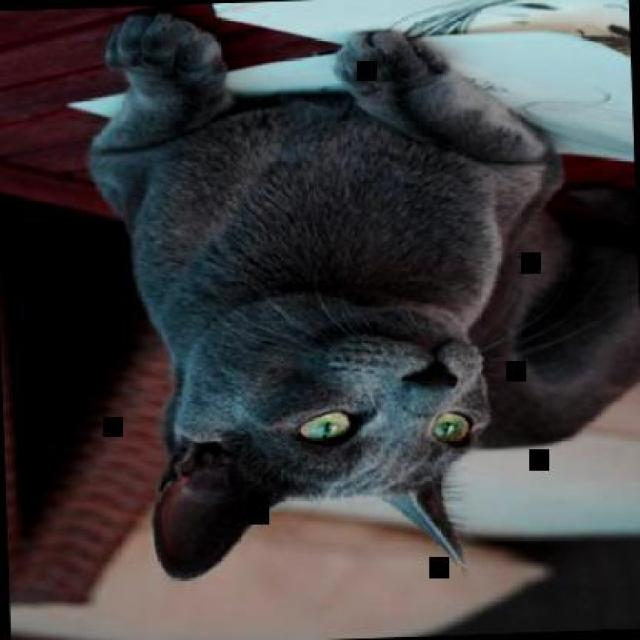cat: (79, 0, 638, 588)
